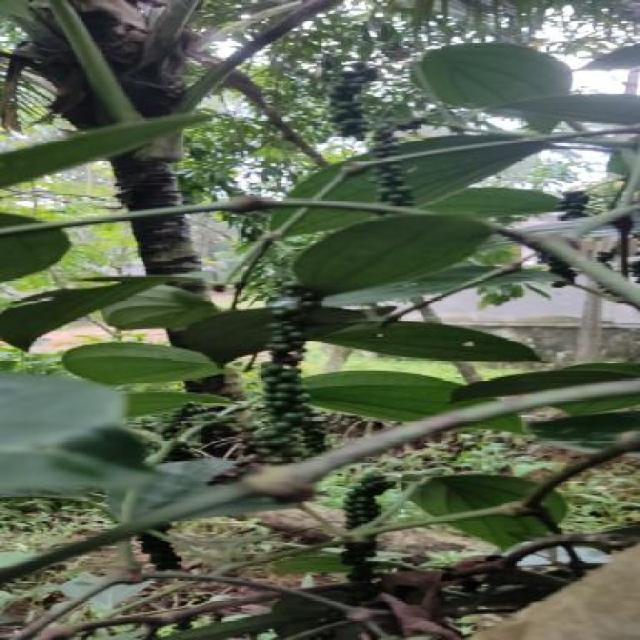UNRIPE: (252, 288, 328, 460), (340, 473, 389, 579), (325, 62, 377, 139), (368, 129, 415, 211), (139, 536, 182, 573), (554, 191, 589, 220)
